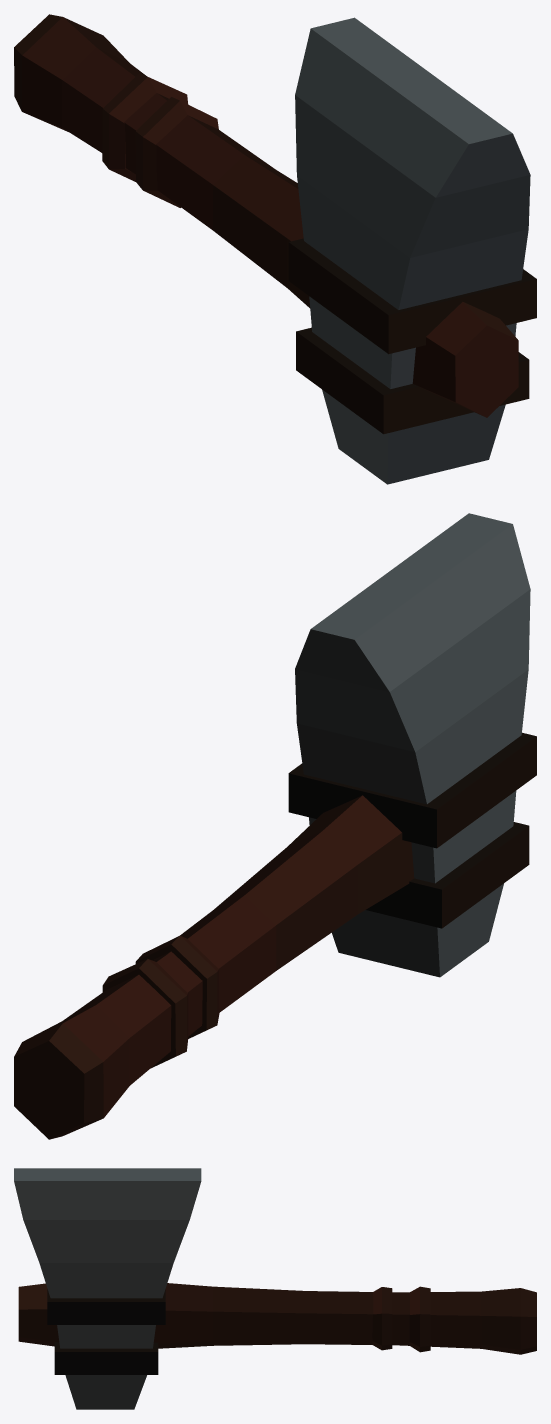
Rendered from axe_b.obj.
The picture shows the model from 3 angles, top to bottom: view 1: azimuth 30°, elevation 25°; view 2: azimuth 150°, elevation 25°; view 3: azimuth 270°, elevation 25°; orthographic projection. The views are drawn at different scales.
Visible parts, largest first — view 1: head, handle, lashing; view 2: head, handle, lashing; view 3: head, handle, lashing.
Part boxes in pixels (box(x1,y1,x2,y2)): head: box(295, 17, 530, 484); handle: box(14, 14, 518, 417); lashing: box(288, 238, 536, 434); head: box(295, 513, 530, 977); handle: box(14, 795, 414, 1139); lashing: box(288, 732, 536, 928); head: box(14, 1168, 201, 1409); handle: box(18, 1283, 536, 1354); lashing: box(47, 1289, 165, 1374).
Bounding box in the file's own units: 0.0877 × 0.21 × 0.452.
